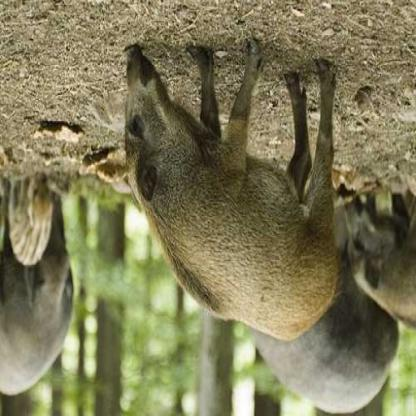boar: (102, 37, 358, 329)
